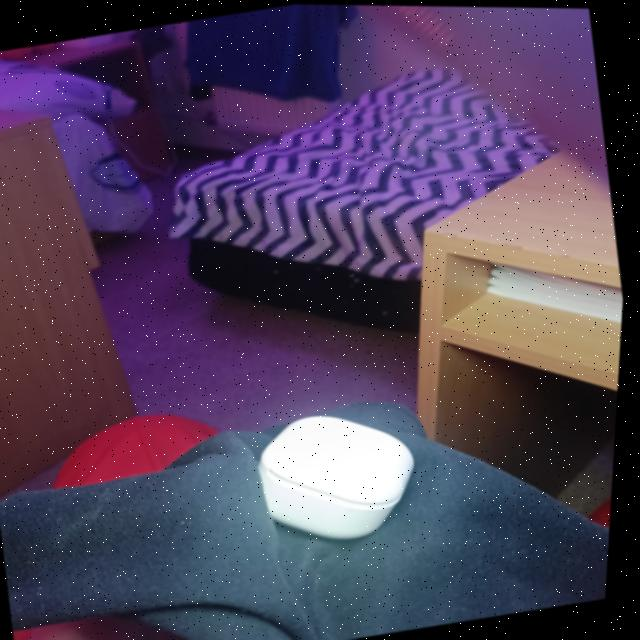headphones: (264, 414, 419, 537)
